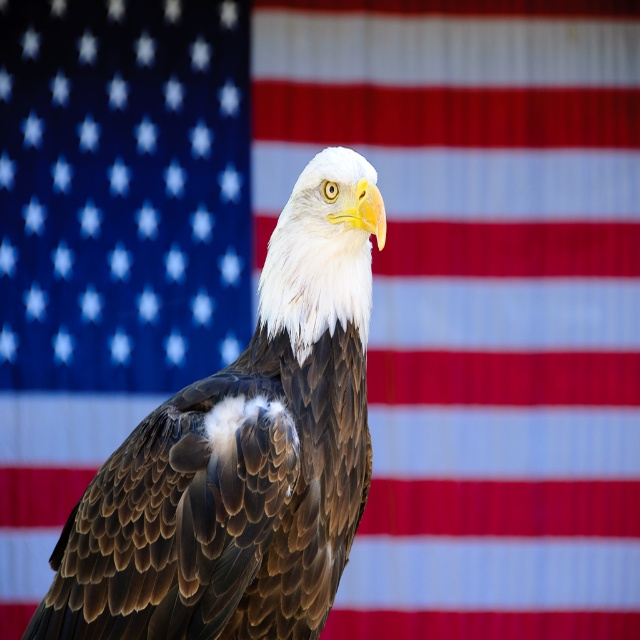Eagle: (25, 148, 385, 639)
